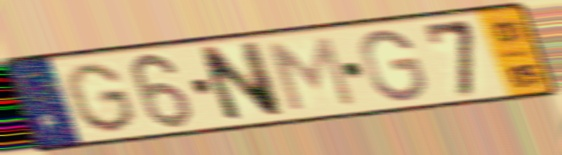6: (129, 50, 195, 132)
7: (420, 17, 479, 99)
G: (61, 60, 141, 135), (358, 27, 430, 104)
M: (264, 34, 360, 114)
N: (193, 38, 288, 126)
